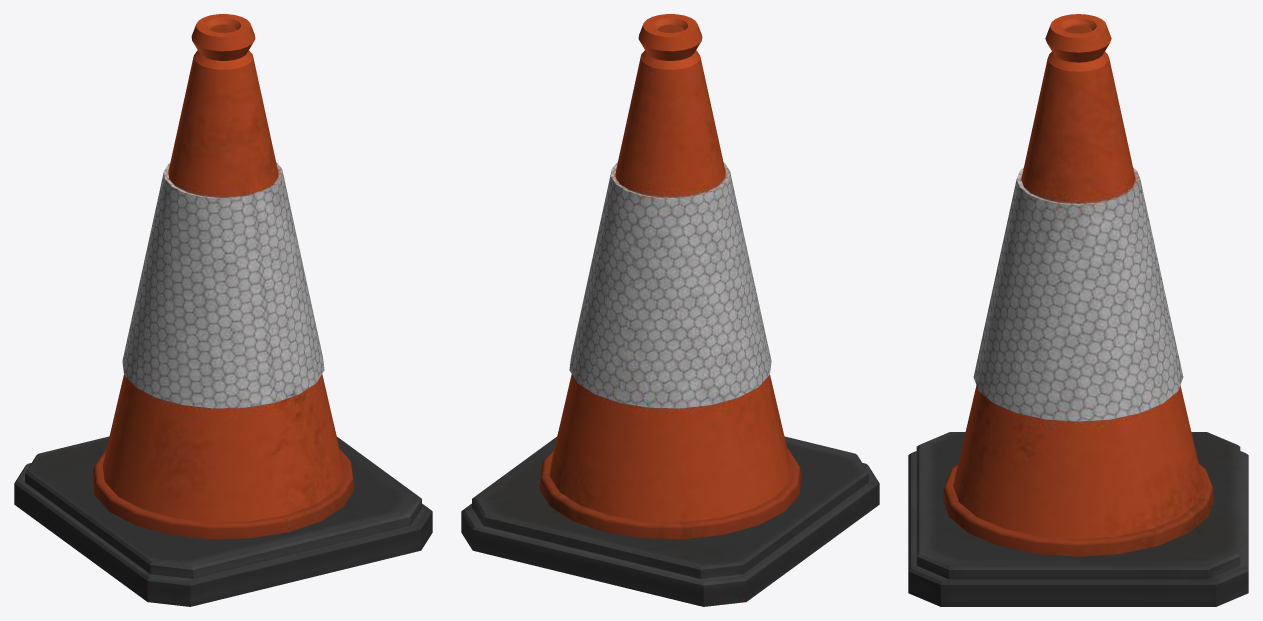
Rendered from cono.glb.
3 views of the same model, side by side, from view 1: azimuth 30°, elevation 25°; view 2: azimuth 150°, elevation 25°; view 3: azimuth 270°, elevation 25° (orthographic). The views are drawn at different scales.
Visible parts, largest first — view 1: cono; view 2: cono; view 3: cono.
Part boxes in pixels (bbox=[...]): cono: bbox=[14, 14, 432, 606]; cono: bbox=[461, 14, 879, 606]; cono: bbox=[908, 14, 1248, 606].
Bounding box in the file's own units: 0.3147 × 0.52 × 0.3147.
Materials: 1 (1 with a texture image).
